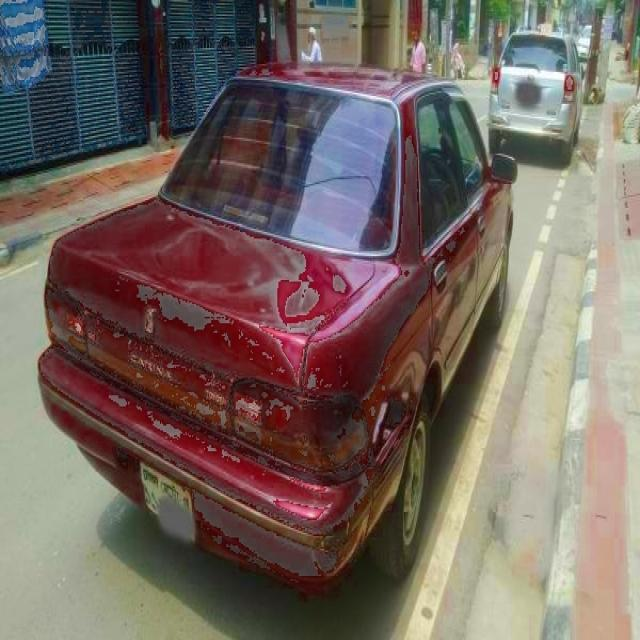maroon: (40, 66, 495, 592)
silver: (496, 30, 582, 170)
